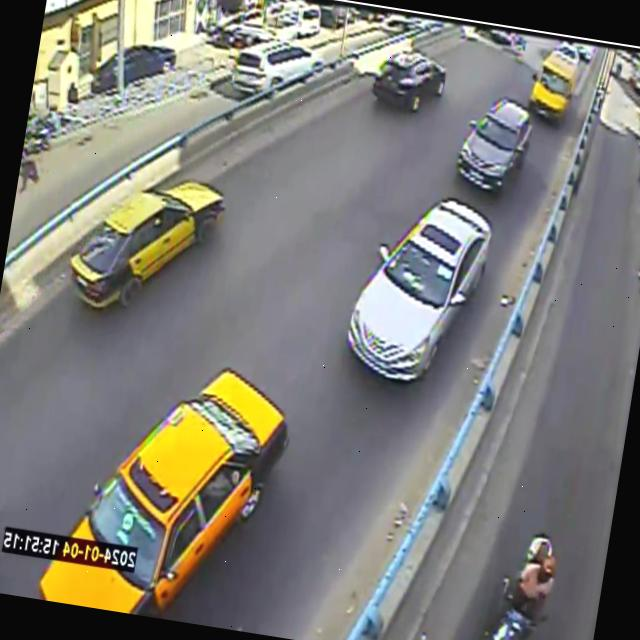car: (40, 370, 289, 617), (349, 198, 492, 381), (72, 180, 225, 307), (458, 97, 532, 190), (373, 52, 447, 112), (232, 41, 319, 90), (530, 52, 578, 118)
